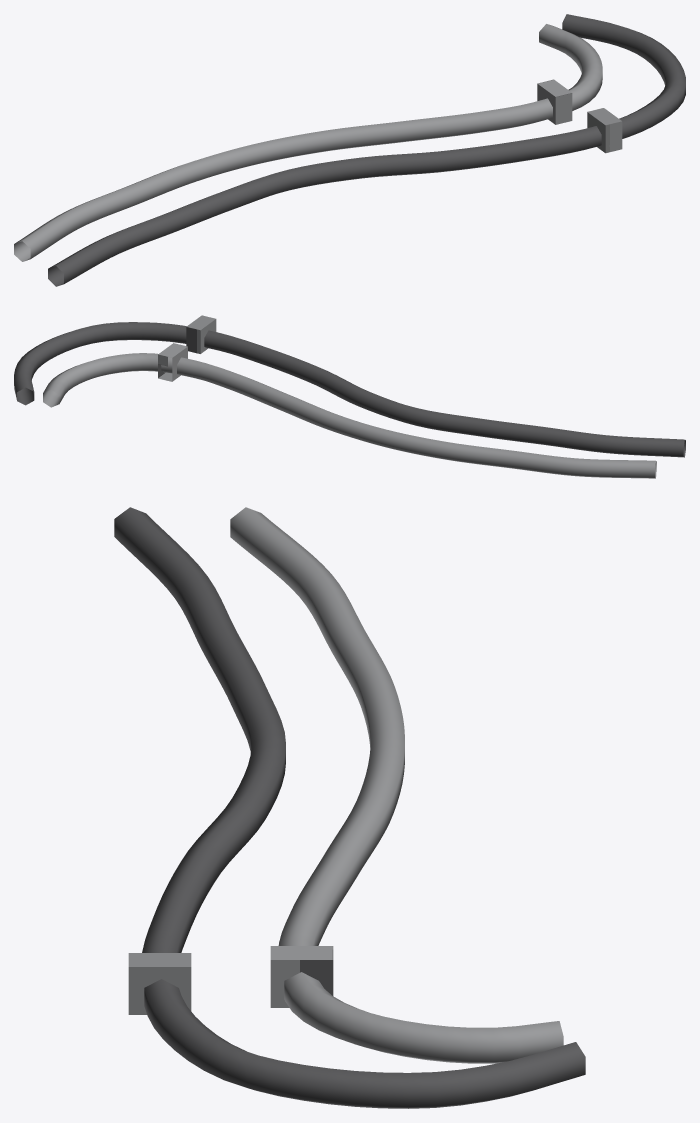
3 views of the same model, one above another, from view 1: azimuth 30°, elevation 25°; view 2: azimuth 150°, elevation 25°; view 3: azimuth 270°, elevation 25° (orthographic). The views are drawn at different scales.
Bounding box in the file's own units: 0.8256 × 0.032 × 0.2854.
